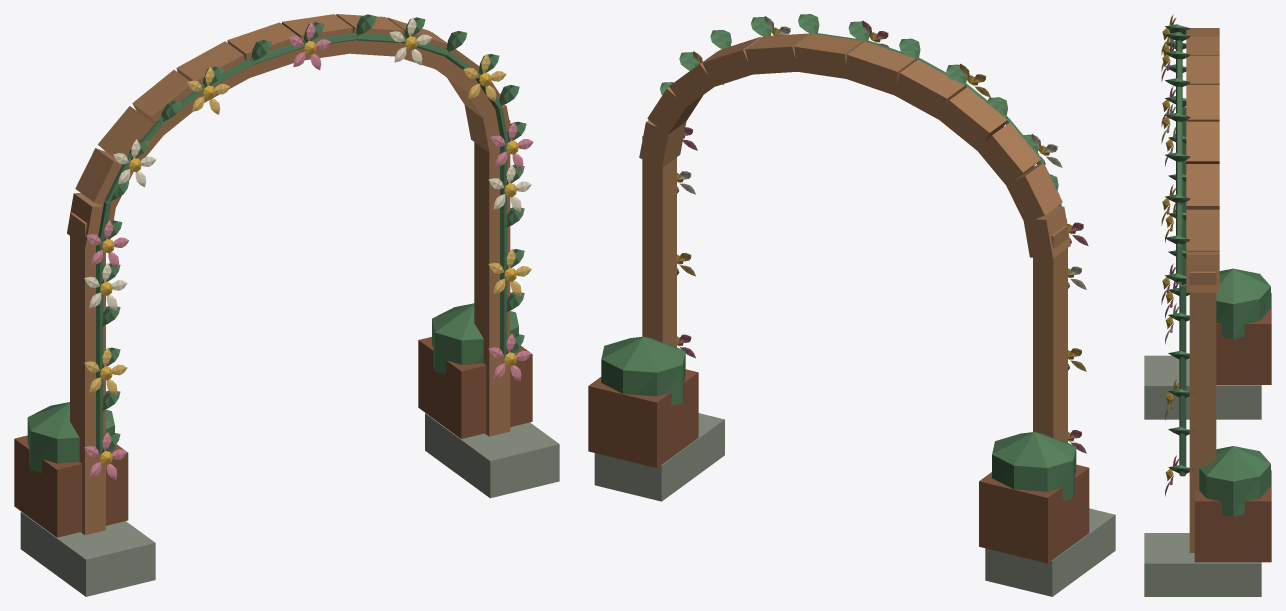
The model's file is festival_arch.glb.
3 renders of one model, left to right at view 1: azimuth 30°, elevation 25°; view 2: azimuth 150°, elevation 25°; view 3: azimuth 270°, elevation 25°, orthographic. The views are drawn at different scales.
Parts seen in each view (by area): view 1: geometry; view 2: geometry; view 3: geometry.
Boxes of the visible parts, bbox=[...] form: geometry: bbox=[14, 14, 559, 596]; geometry: bbox=[588, 14, 1115, 596]; geometry: bbox=[1144, 14, 1271, 596].
Bounding box in the file's own units: 3 × 2.97 × 0.76.
